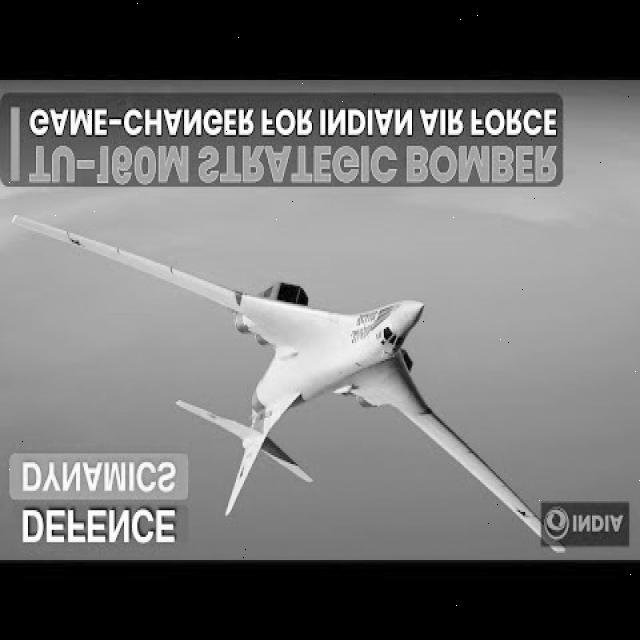Tu160: (26, 230, 558, 534)
